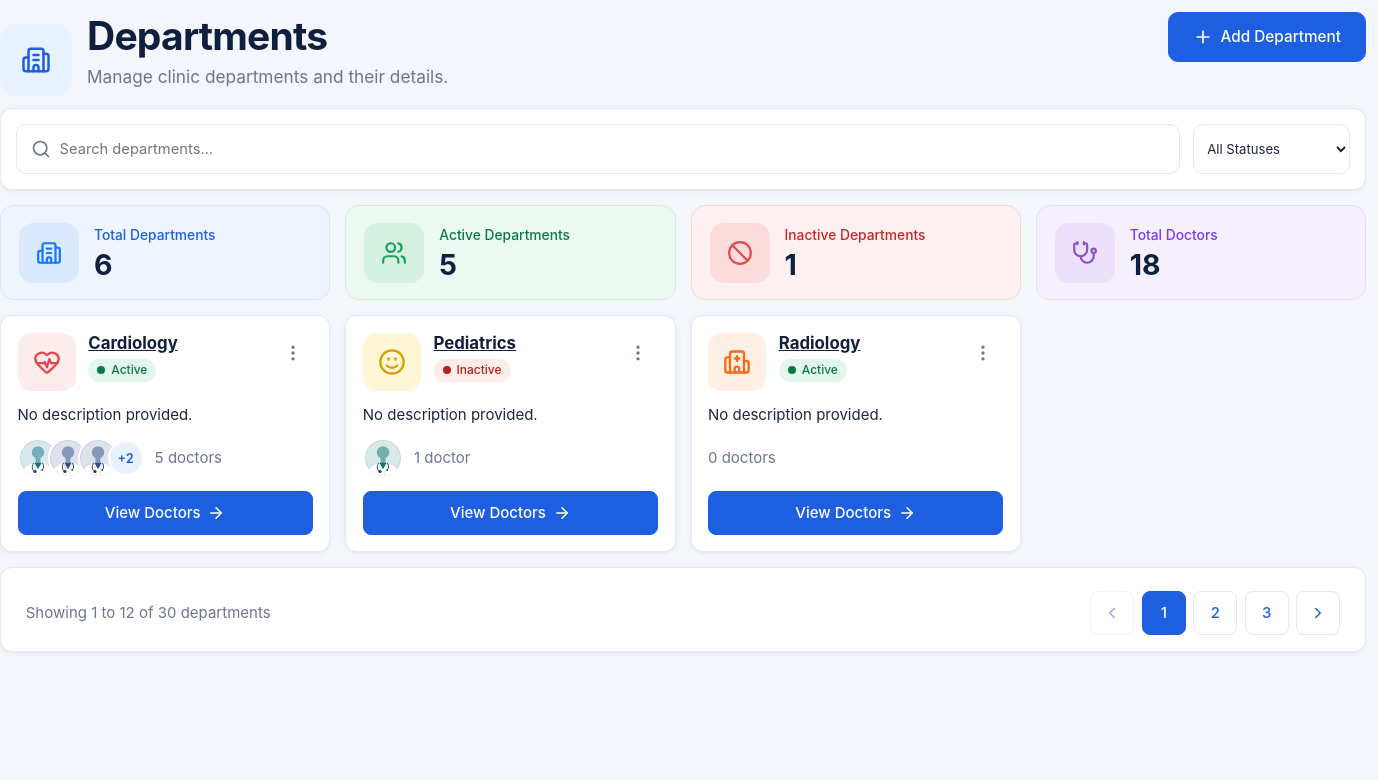
Test case: Departments list › actions menu offers view, edit, manage doctors and the status change
This screenshot has width=1378, height=780.
Click the button named "Actions for Pediatrics": click(638, 353) [618,333,658,373]
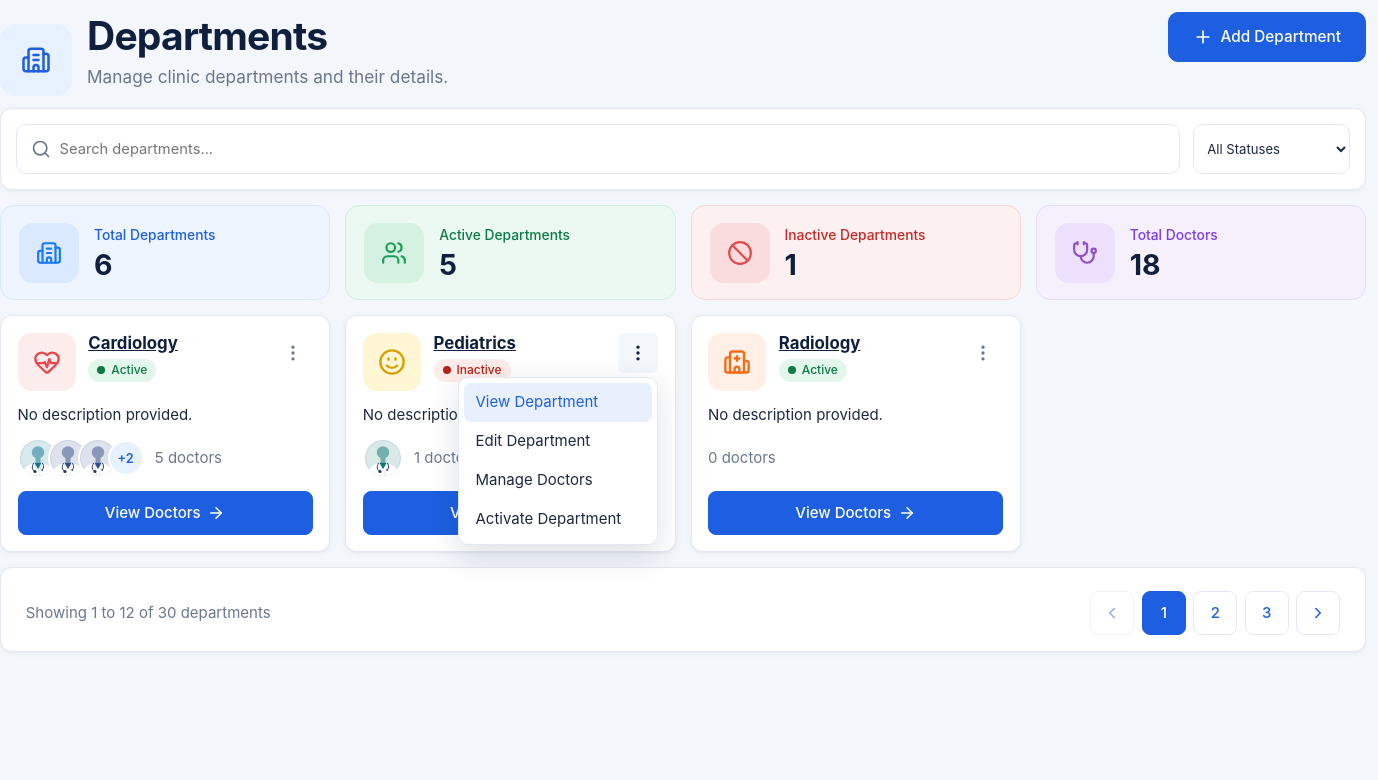
expect the menu items read "View Department", "Edit Department", "Manage Doctors", "Activate Department", in this order: met, box [464,383,652,422]; [464,422,652,461]; [464,461,652,500]; [464,500,652,539]
